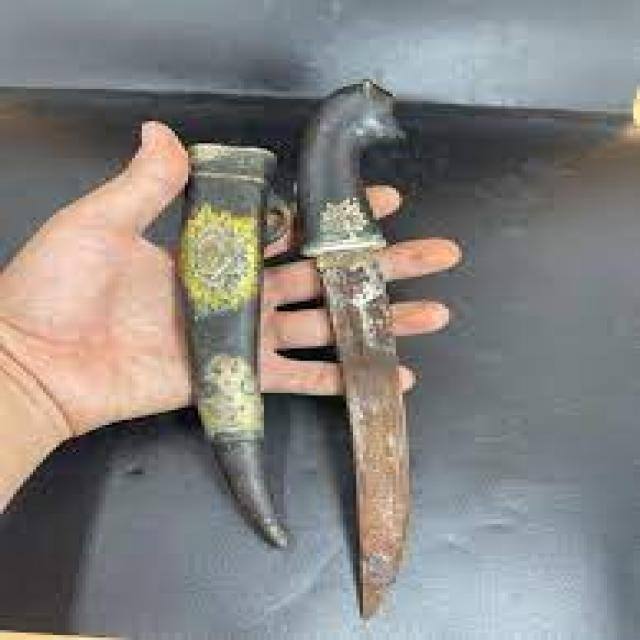short sword: (151, 54, 440, 629)
